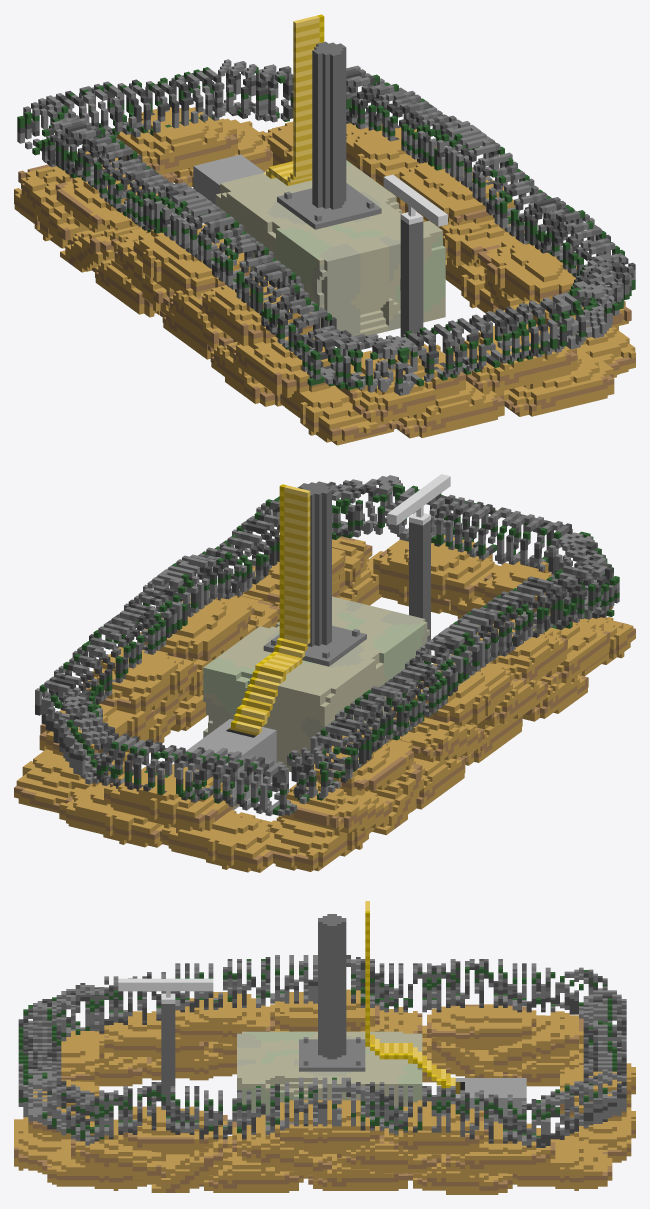
The model's file is mitrailleuse_v3.vox.obj.
3 renders of one model, top to bottom at view 1: azimuth 30°, elevation 25°; view 2: azimuth 150°, elevation 25°; view 3: azimuth 270°, elevation 25°, orthographic. The views are drawn at different scales.
Size of the model in its own units: 7.1 by 5.2 by 13.1.
Materials: 1 (1 with a texture image).
